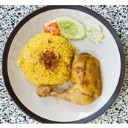briyani: (18, 32, 101, 104)
